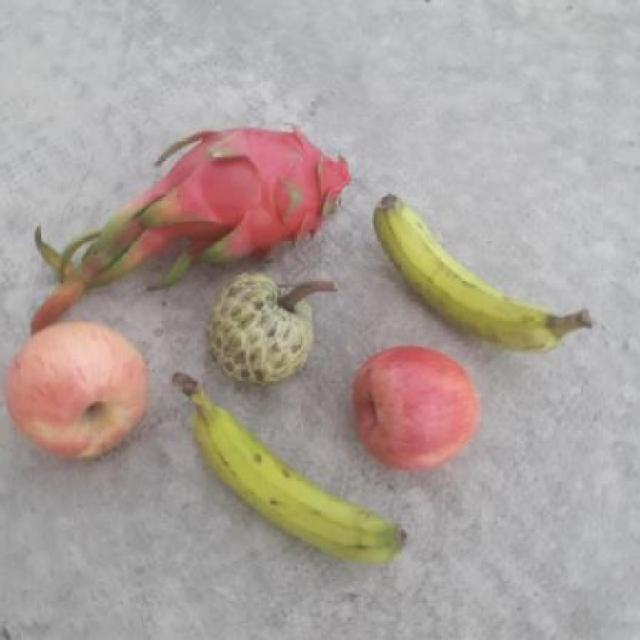apple: (3, 320, 155, 462), (346, 346, 482, 476)
banana: (168, 372, 426, 566), (372, 192, 597, 354)
dragon fruit: (134, 123, 360, 274)
sugar apple: (200, 269, 329, 389)
